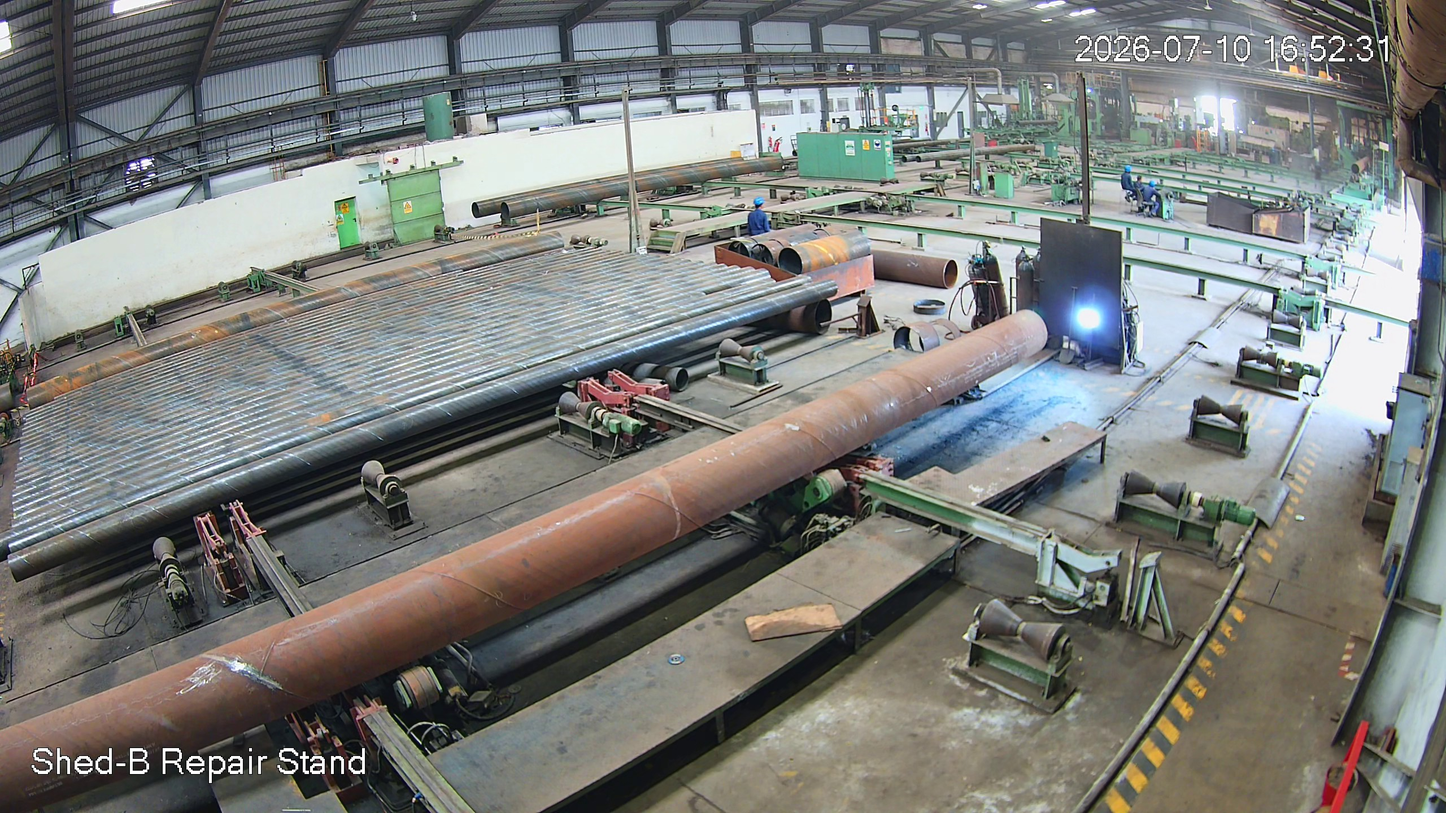Helmet: (753, 196, 766, 211)
Person: (749, 198, 770, 236)
